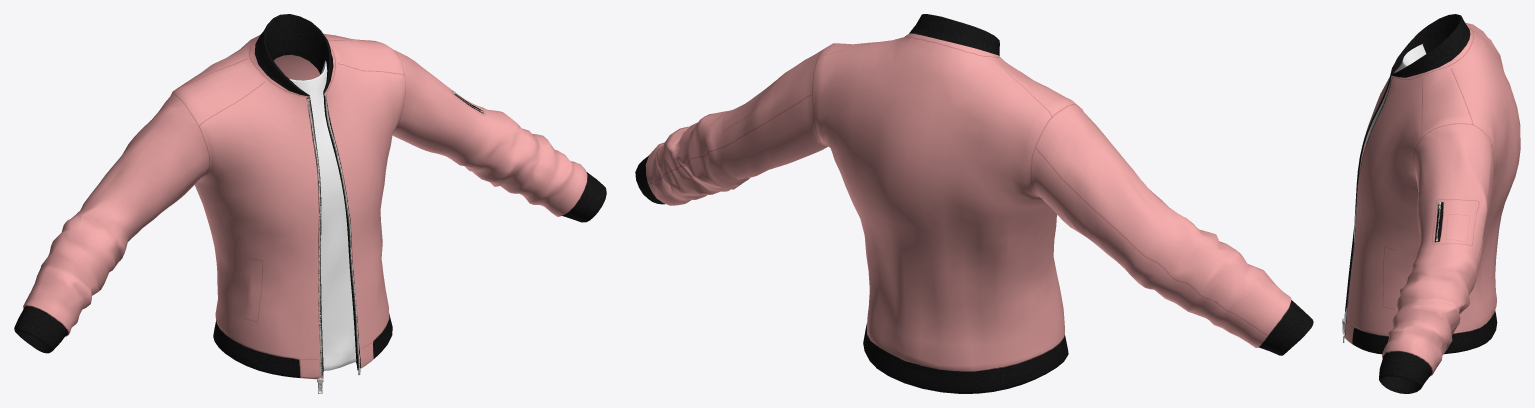
The model's file is agc_jacket.glb.
3 renders of one model, left to right at view 1: azimuth 30°, elevation 25°; view 2: azimuth 150°, elevation 25°; view 3: azimuth 270°, elevation 25°, orthographic. The views are drawn at different scales.
Visible parts, largest first — view 1: defaultMaterial.006; view 2: defaultMaterial.006; view 3: defaultMaterial.006.
Boxes of the visible parts, x1,y1,x2,y2 form: defaultMaterial.006: (14,14,606,393); defaultMaterial.006: (635,14,1313,393); defaultMaterial.006: (1342,14,1520,393).
Size of the model in its own units: 201 by 108 by 53.87.
Materials: 1 (1 with a texture image).
